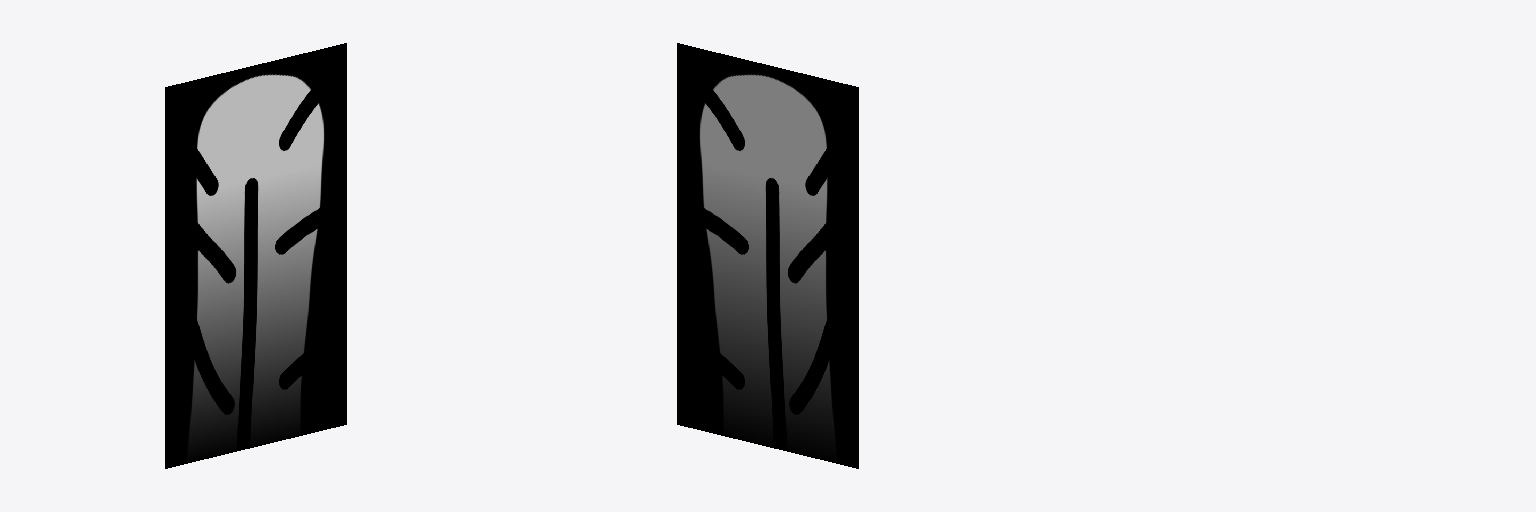
The picture shows the model from 3 angles: view 1: azimuth 30°, elevation 25°; view 2: azimuth 150°, elevation 25°; view 3: azimuth 270°, elevation 25°; orthographic projection.
Visible parts, largest first — view 1: Fern.005_Plane.004; view 2: Fern.005_Plane.004; view 3: none.
Boxes of the visible parts, box(x1,y1,x2,y2) form: Fern.005_Plane.004: box(165, 43, 346, 468); Fern.005_Plane.004: box(677, 43, 858, 468).
Size of the model in its own units: 0.25 by 0.5 by 0.
1 materials, 1 textured.